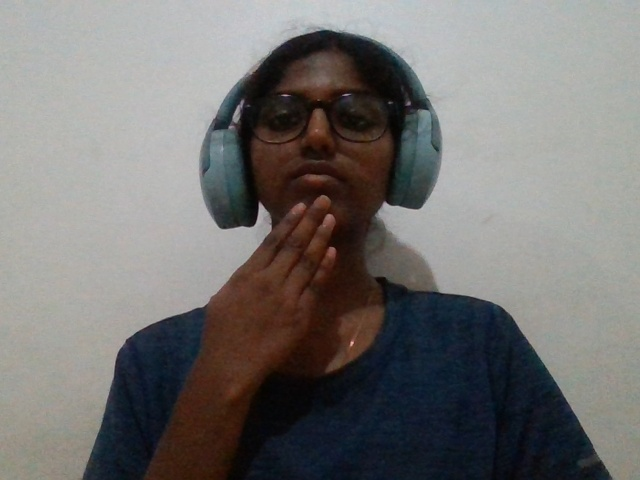Thanks: (147, 57, 424, 446)
